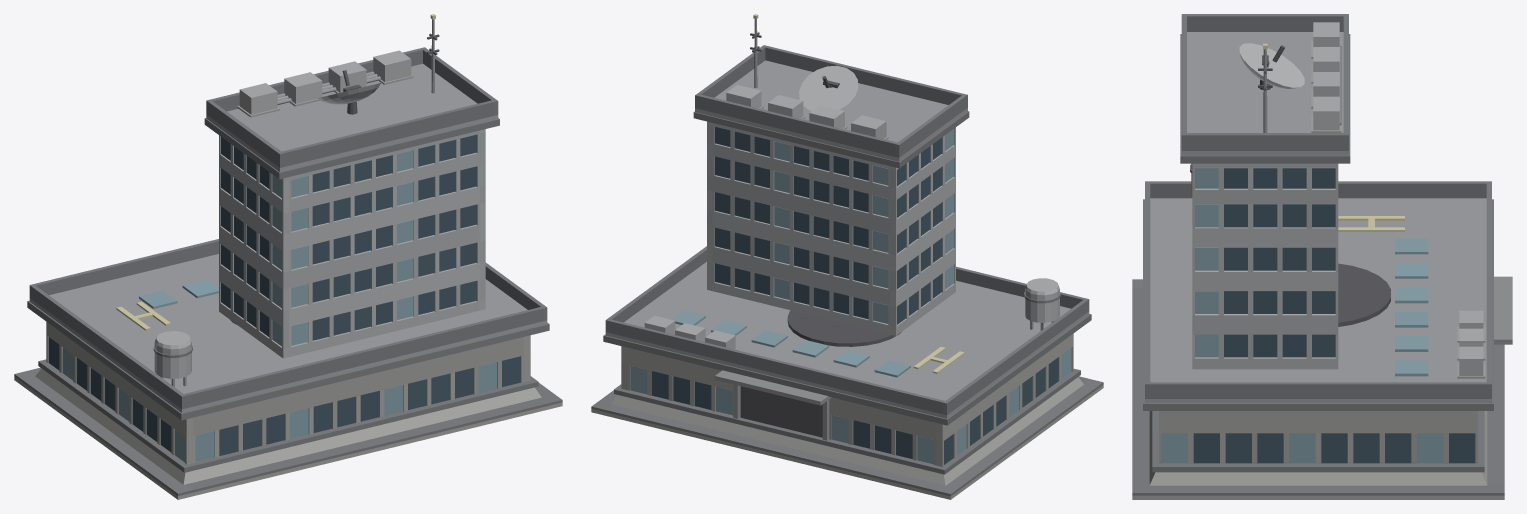
The model's file is western_hq.glb.
3 views of the same model, side by side, from view 1: azimuth 30°, elevation 25°; view 2: azimuth 150°, elevation 25°; view 3: azimuth 270°, elevation 25° (orthographic). The views are drawn at different scales.
Visible parts, largest first — view 1: tower_wall, tower_glass, podium_deck, podium_wall, podium_parapet, podium_glass, tower_deck, tower_parapet, apron_rim, plinth, plinth_cap, podium_fascia (+6 smaller); view 2: tower_wall, podium_deck, tower_glass, podium_parapet, podium_wall, tower_parapet, podium_glass, tower_deck, apron_rim, plinth, plinth_cap, podium_fascia (+10 smaller); view 3: podium_deck, tower_wall, tower_glass, tower_deck, podium_parapet, podium_wall, apron_rim, podium_glass, tower_parapet, plinth, plinth_cap, podium_fascia (+9 smaller).
Boxes of the visible parts, left/top/right/bottom form: tower_wall: left=219, top=129, right=485, bottom=358; tower_glass: left=221, top=134, right=476, bottom=346; podium_deck: left=29, top=254, right=547, bottom=412; podium_wall: left=46, top=322, right=530, bottom=464; podium_parapet: left=29, top=239, right=547, bottom=409; podium_glass: left=48, top=337, right=520, bottom=462; tower_deck: left=206, top=63, right=498, bottom=172; tower_parapet: left=206, top=47, right=498, bottom=167; apron_rim: left=14, top=367, right=562, bottom=496; plinth: left=35, top=368, right=541, bottom=484; plinth_cap: left=38, top=359, right=538, bottom=472; podium_fascia: left=27, top=300, right=549, bottom=420; tower_wall: left=707, top=121, right=955, bottom=335; podium_deck: left=605, top=262, right=1089, bottom=418; tower_glass: left=715, top=126, right=954, bottom=324; podium_parapet: left=605, top=246, right=1089, bottom=415; podium_wall: left=621, top=333, right=1073, bottom=466; tower_parapet: left=695, top=45, right=967, bottom=157; podium_glass: left=630, top=348, right=1071, bottom=464; tower_deck: left=695, top=60, right=967, bottom=161; apron_rim: left=591, top=376, right=1103, bottom=496; plinth: left=611, top=377, right=1083, bottom=485; plinth_cap: left=614, top=368, right=1080, bottom=474; podium_fascia: left=603, top=314, right=1091, bottom=425; podium_deck: left=1145, top=198, right=1491, bottom=402; tower_wall: left=1192, top=163, right=1338, bottom=369; tower_glass: left=1195, top=168, right=1335, bottom=357; tower_deck: left=1181, top=32, right=1348, bottom=155; podium_parapet: left=1145, top=181, right=1491, bottom=398; podium_wall: left=1159, top=411, right=1477, bottom=463; apron_rim: left=1132, top=279, right=1504, bottom=495; podium_glass: left=1161, top=433, right=1475, bottom=463; tower_parapet: left=1181, top=14, right=1348, bottom=150; plinth: left=1149, top=411, right=1487, bottom=485; plinth_cap: left=1152, top=411, right=1484, bottom=472; podium_fascia: left=1143, top=199, right=1493, bottom=410.
Size of the model in its own units: 38 by 34.52 by 28.6.
